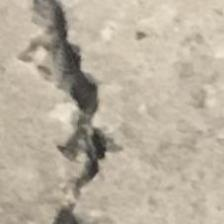Crack: (18, 0, 122, 224)
